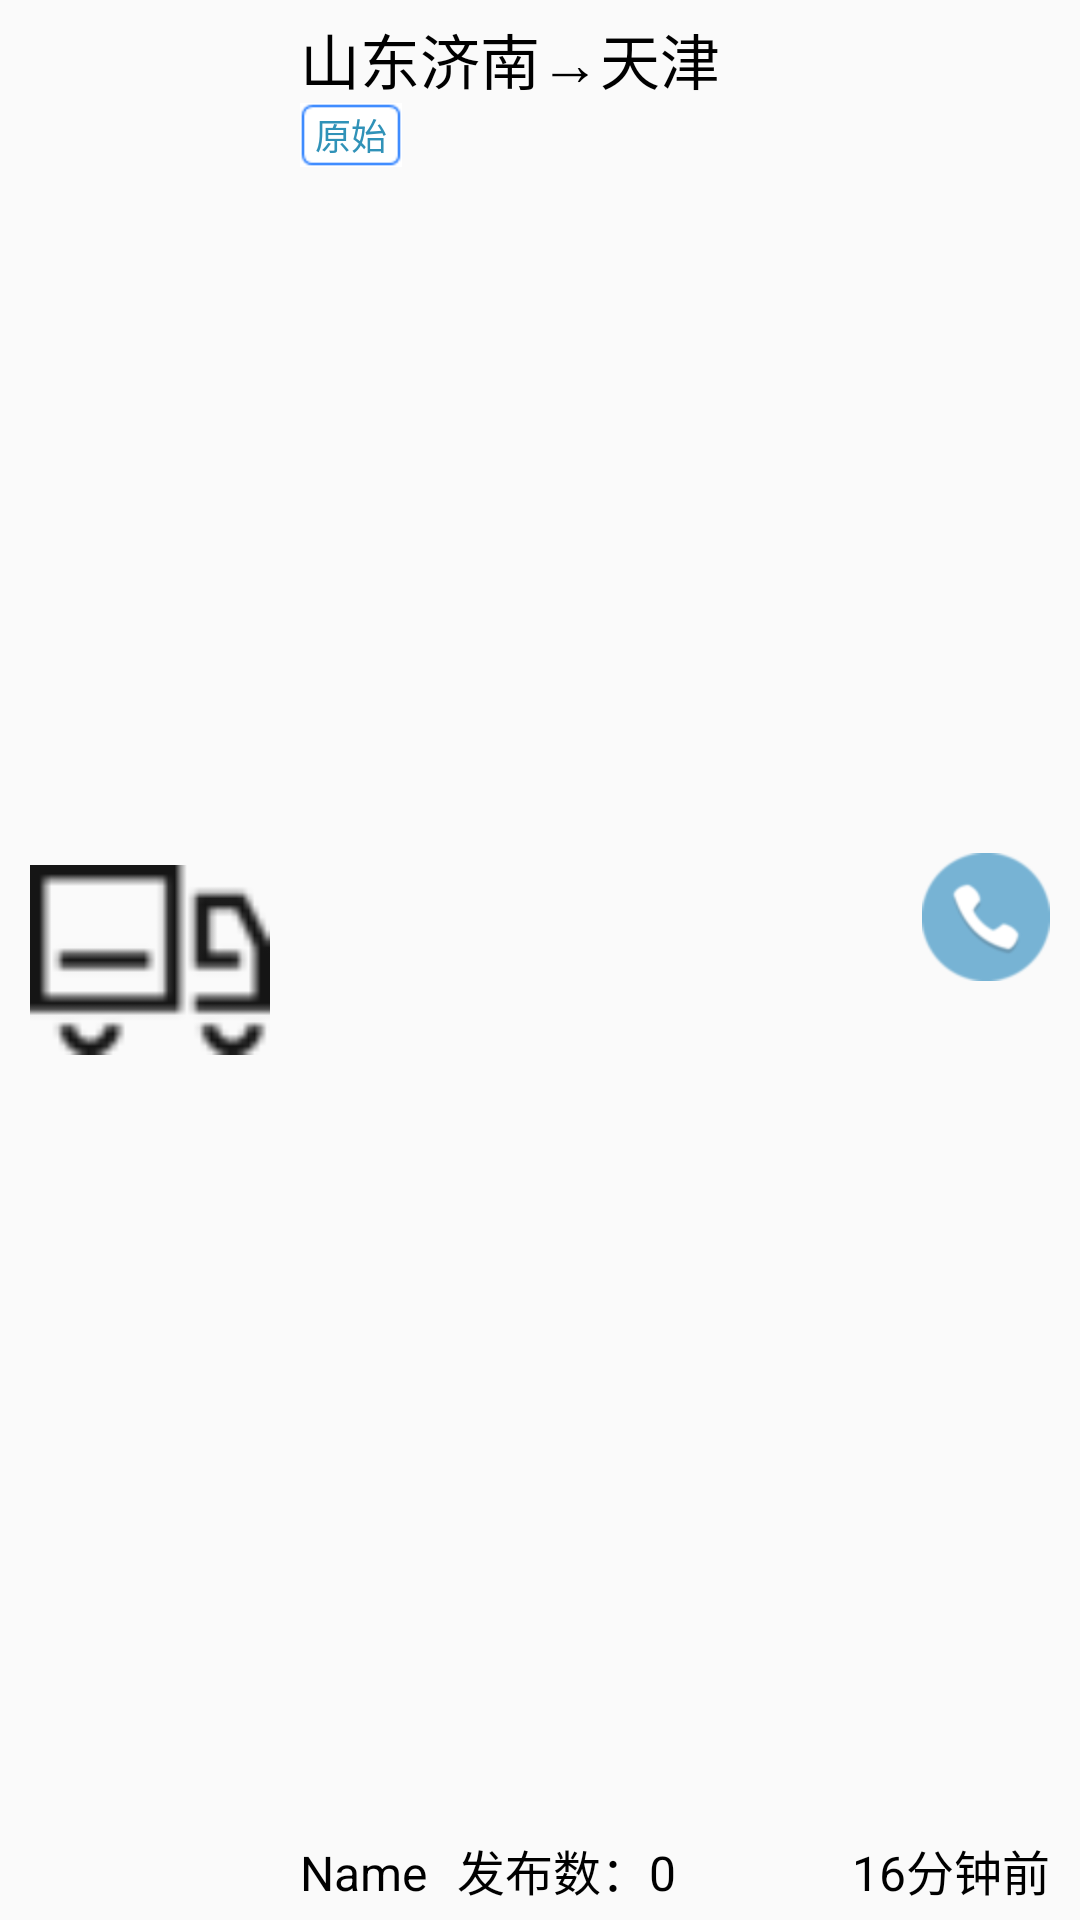

Icons on this 1080w x 1920h Android screen, each with its box as bbox(x1, y1, x2, y2):
phone: bbox(922, 853, 1050, 981)
truck: bbox(30, 865, 270, 1055)
